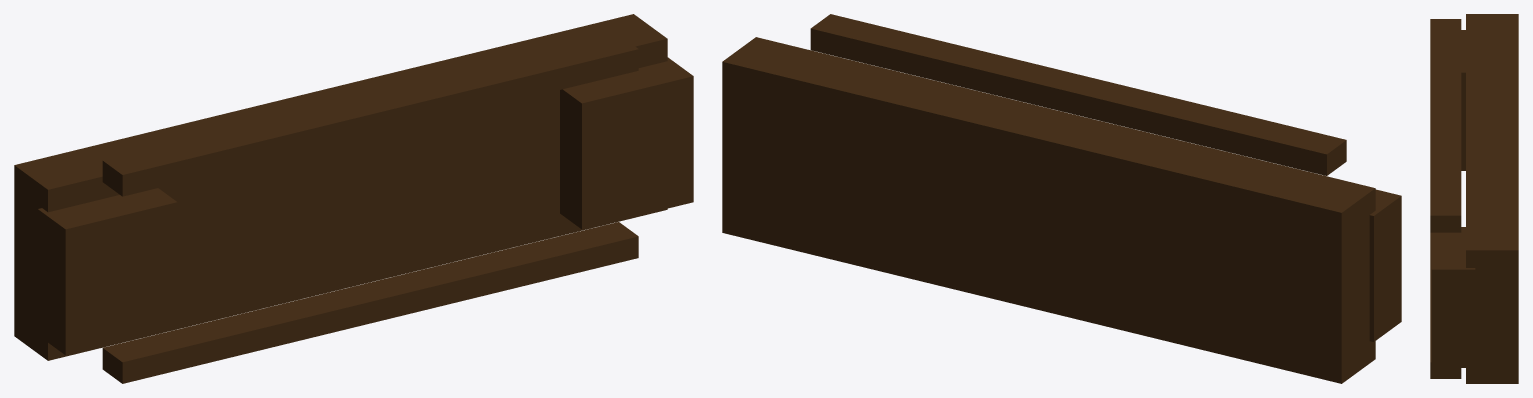
The model's file is SM_AnduinBoat.obj.
3 renders of one model, left to right at view 1: azimuth 30°, elevation 25°; view 2: azimuth 150°, elevation 25°; view 3: azimuth 270°, elevation 25°, orthographic. The views are drawn at different scales.
Visible parts, largest first — view 1: SM_AnduinBoat; view 2: SM_AnduinBoat; view 3: SM_AnduinBoat.
Boxes of the visible parts, x1,y1,x2,y2 form: SM_AnduinBoat: [14, 14, 693, 383]; SM_AnduinBoat: [722, 14, 1401, 383]; SM_AnduinBoat: [1430, 14, 1518, 383].
Size of the model in its own units: 365 by 116 by 57.
